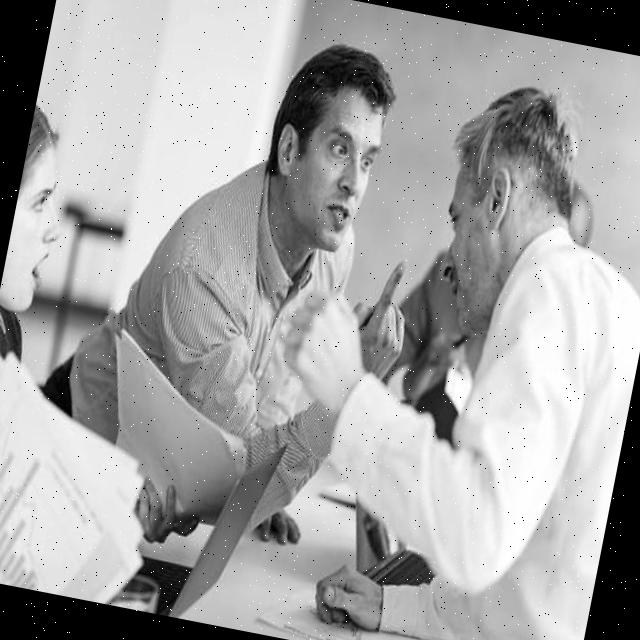Angry: (277, 82, 391, 258)
